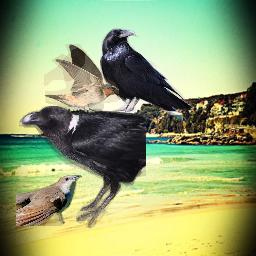Crow: (19, 105, 146, 229), (100, 28, 193, 123)
Cuckoo: (16, 175, 82, 226)
Swallow: (44, 44, 119, 112)
